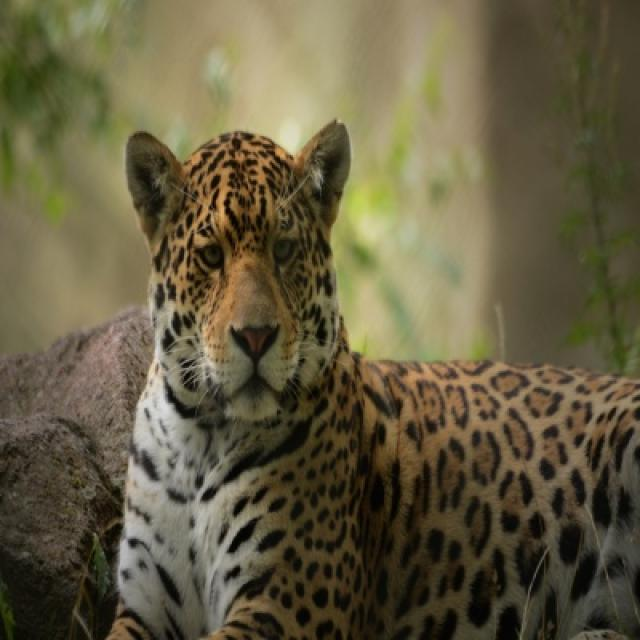Jaguar: (107, 120, 638, 638)
